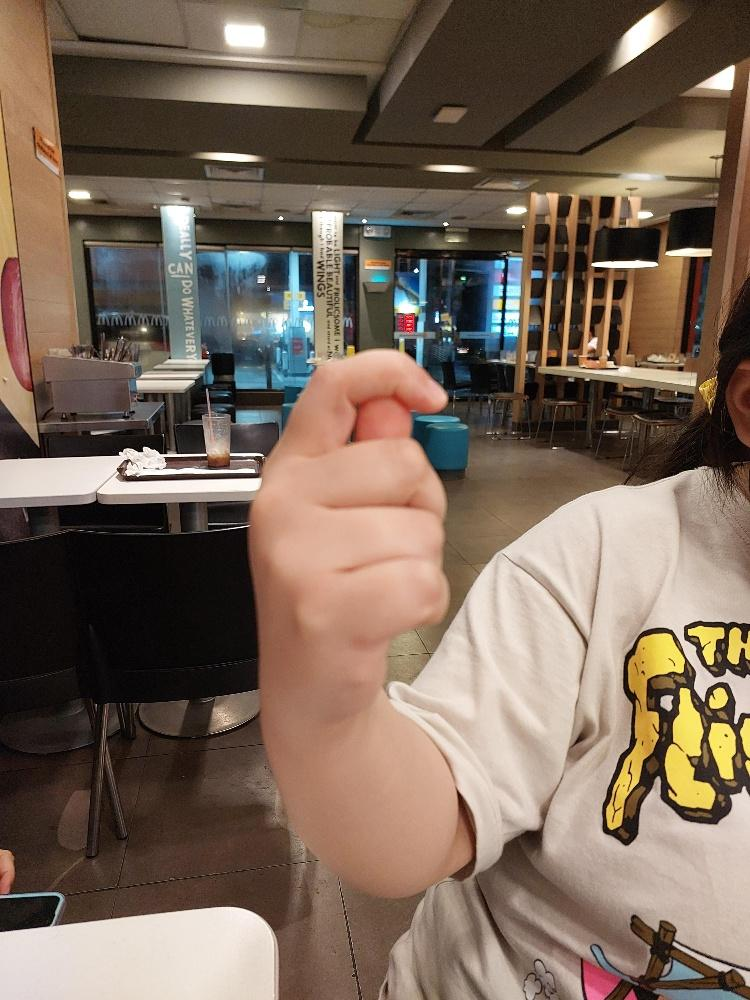t: (246, 343, 452, 726)
